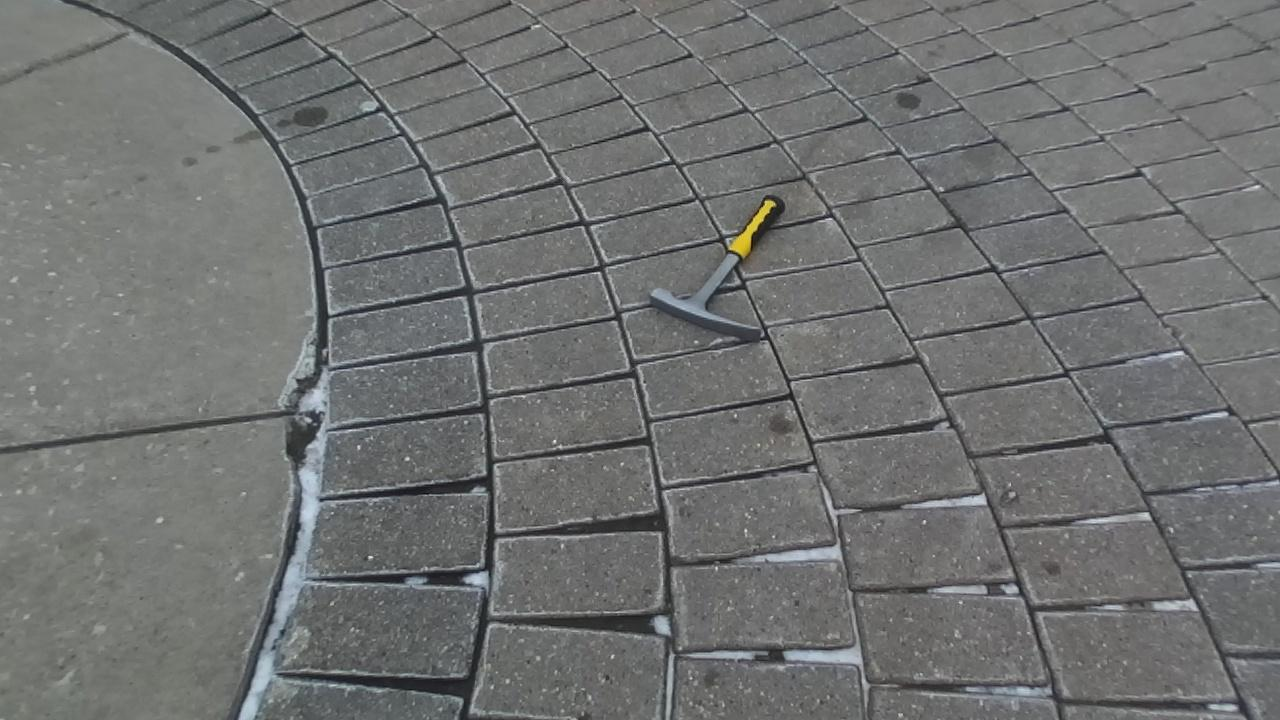pick: (651, 195, 784, 340)
